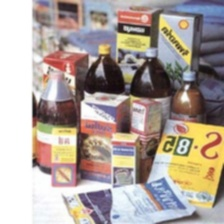carton: (76, 88, 132, 186), (152, 7, 205, 103), (40, 48, 92, 137), (115, 2, 165, 87), (128, 96, 163, 162), (48, 125, 79, 188), (109, 131, 141, 192)
insecticide: (52, 170, 202, 224), (145, 114, 224, 211), (34, 66, 79, 176), (124, 45, 172, 146), (79, 41, 126, 133), (172, 65, 208, 142)
